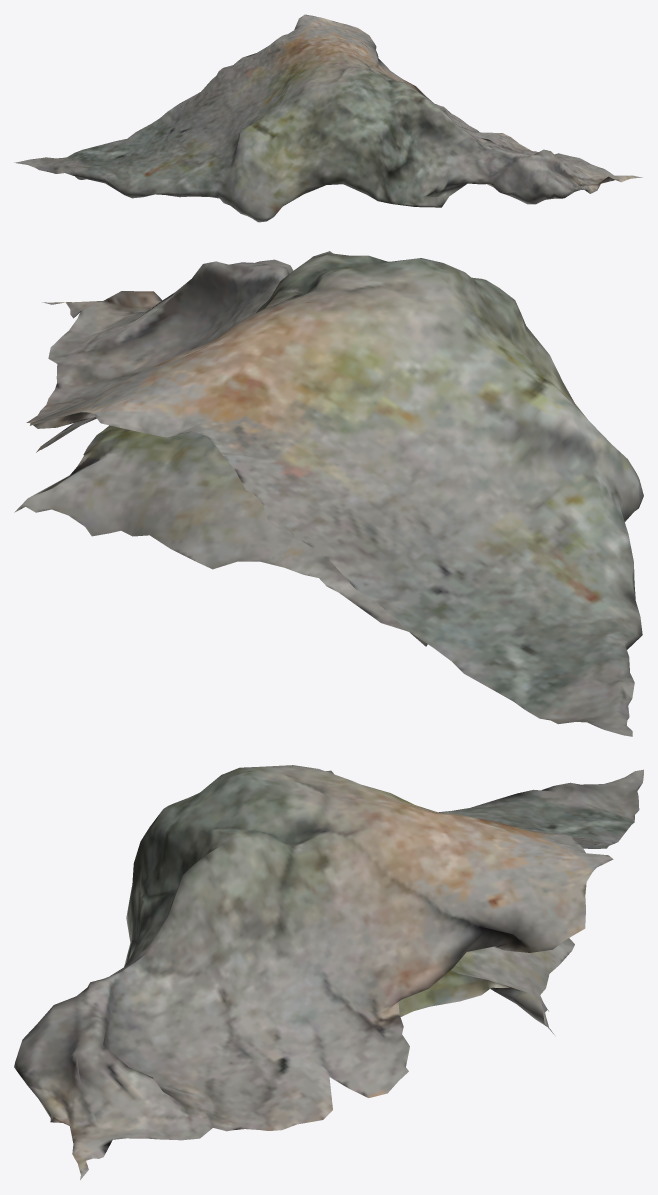
File: bunPaper03.FBX
3 renders of one model, top to bottom at view 1: azimuth 30°, elevation 25°; view 2: azimuth 150°, elevation 25°; view 3: azimuth 270°, elevation 25°, orthographic. The views are drawn at different scales.
Parts seen in each view (by area): view 1: SM_BunPaper03; view 2: SM_BunPaper03; view 3: SM_BunPaper03.
Part boxes in pixels (left/top/right/bottom): SM_BunPaper03: left=14, top=14, right=642, bottom=222; SM_BunPaper03: left=14, top=251, right=643, bottom=736; SM_BunPaper03: left=14, top=765, right=643, bottom=1179.
Bounding box in the file's own units: 15.5 × 3.82 × 10.46.
Materials: 1 (1 with a texture image).
